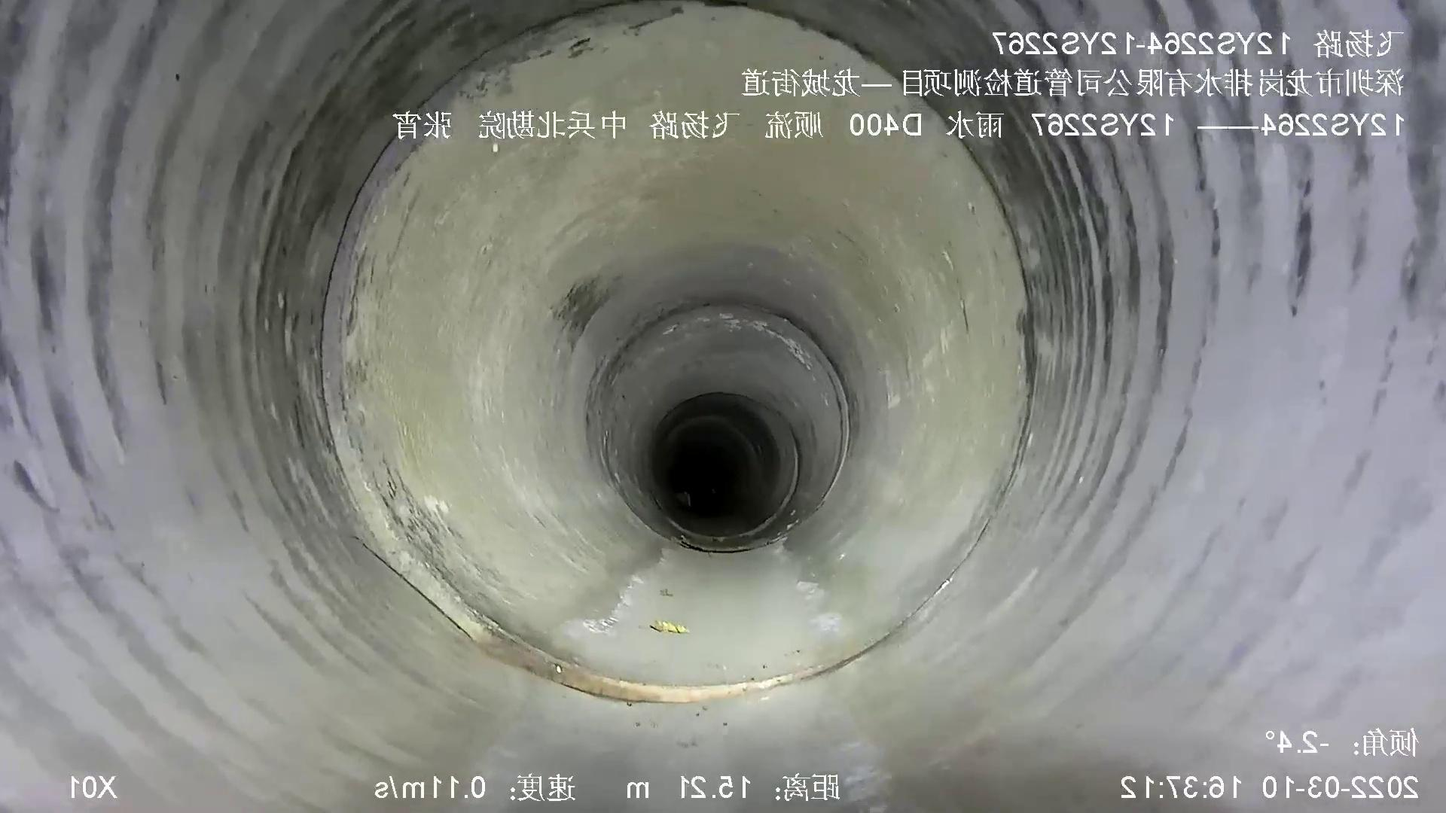CKTJ: (320, 0, 868, 703), (671, 308, 853, 557), (657, 418, 803, 543)
